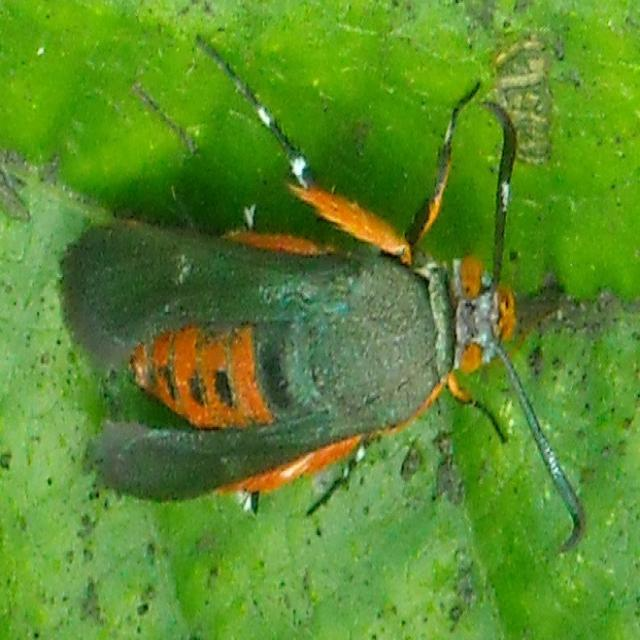squash_vine_borer: (54, 69, 588, 583)
